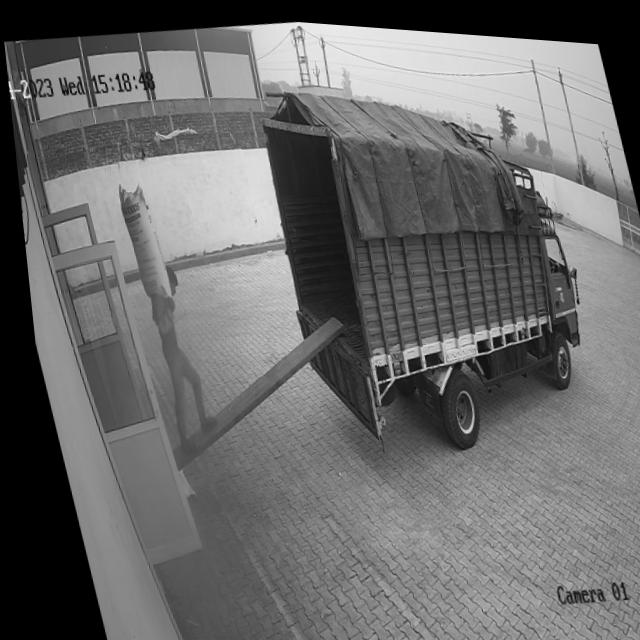sack: (111, 177, 167, 301)
